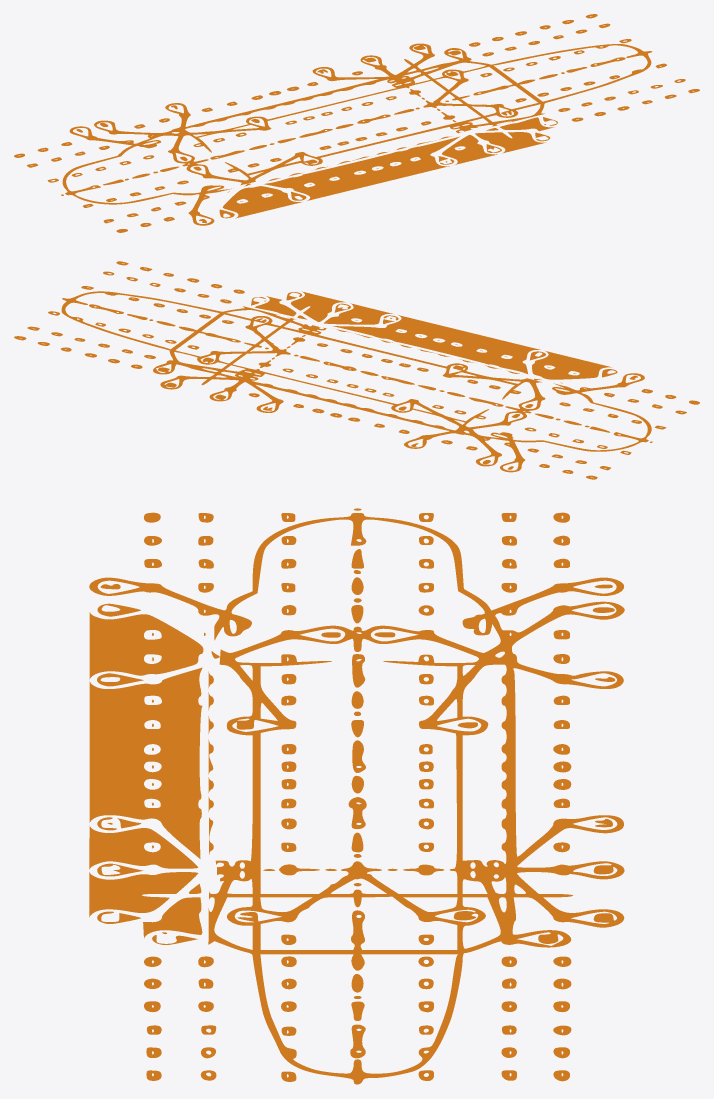
The model's file is chinook.fbx.
The picture shows the model from 3 angles, top to bottom: view 1: azimuth 30°, elevation 25°; view 2: azimuth 150°, elevation 25°; view 3: azimuth 270°, elevation 25°; orthographic projection. The views are drawn at different scales.
Parts seen in each view (by area): view 1: path132; view 2: path132; view 3: path132.
Boxes of the visible parts, x1,y1,x2,y2 form: path132: (14,14,699,232); path132: (14,261,699,479); path132: (89,508,624,1084).
Size of the model in its own units: 135 by 8.67e-06 by 53.19.
